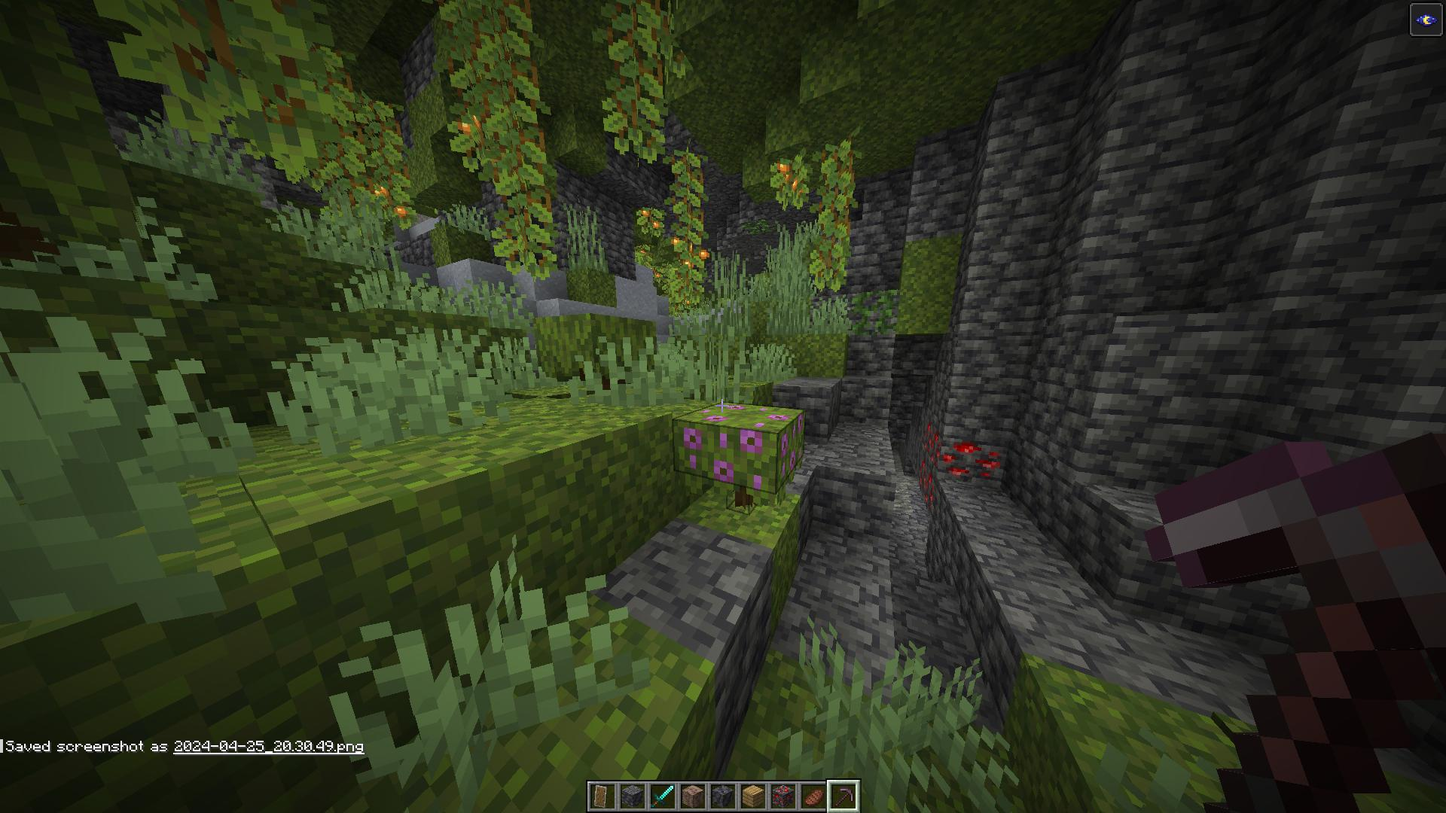redstone ore: (913, 425, 1006, 504)
